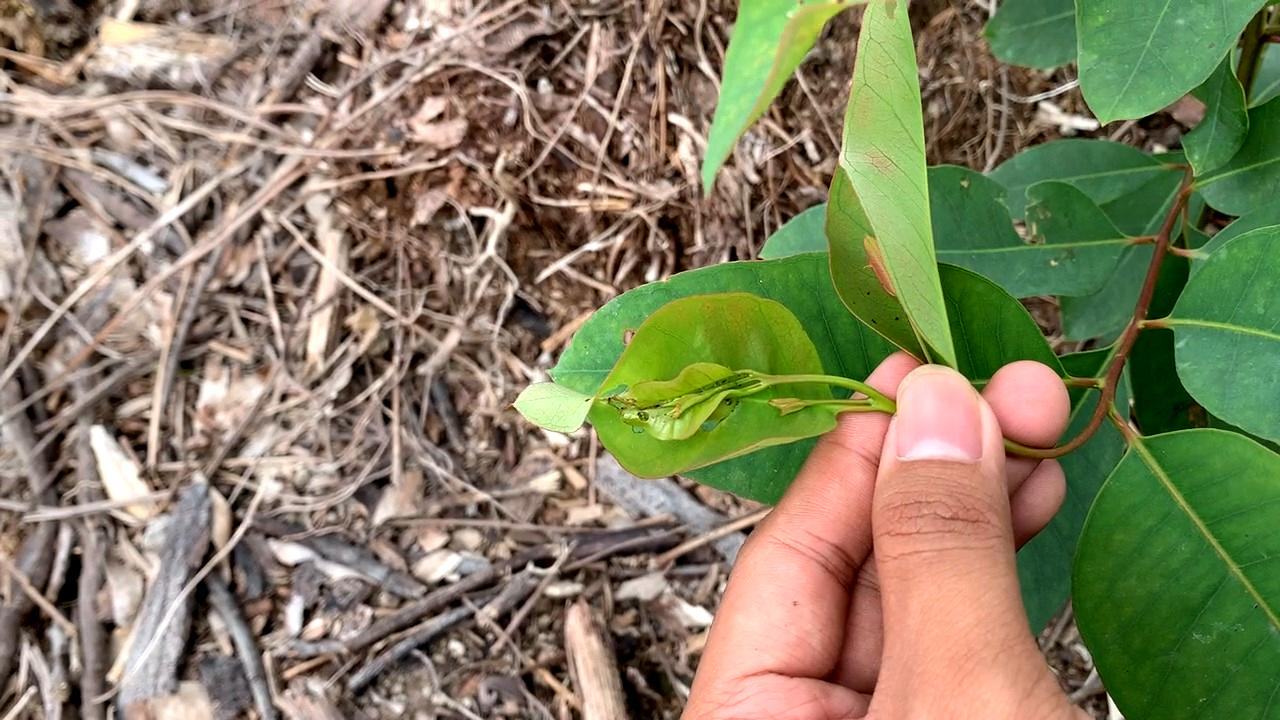Leaf Roller - Leaf: (525, 329, 856, 496)
